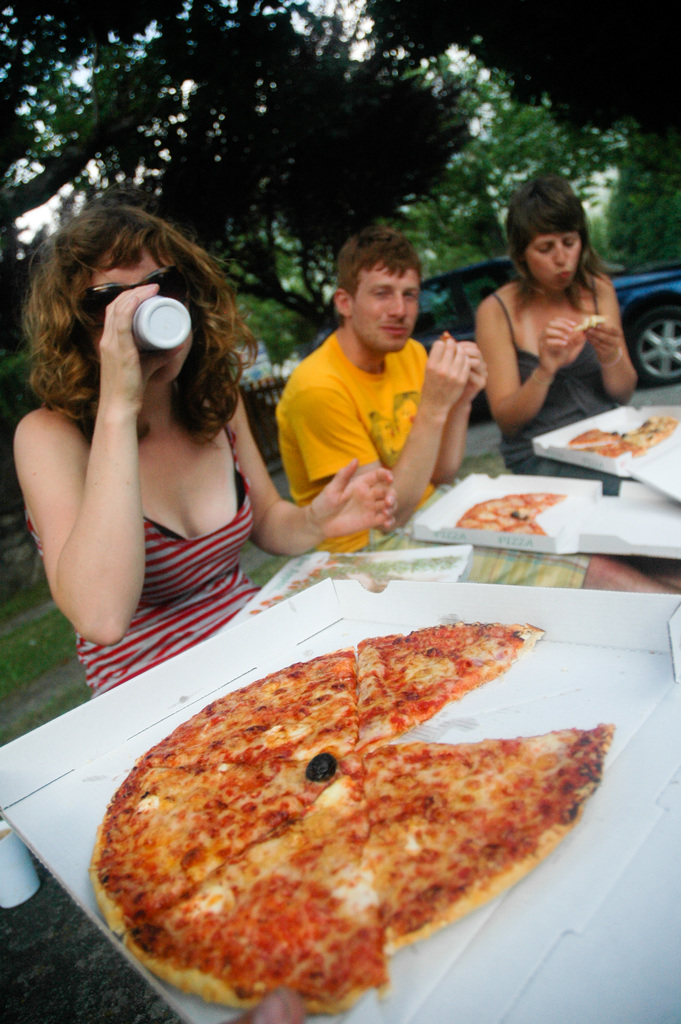pizza: (111, 624, 616, 1016), (566, 412, 677, 463), (450, 488, 562, 534)
